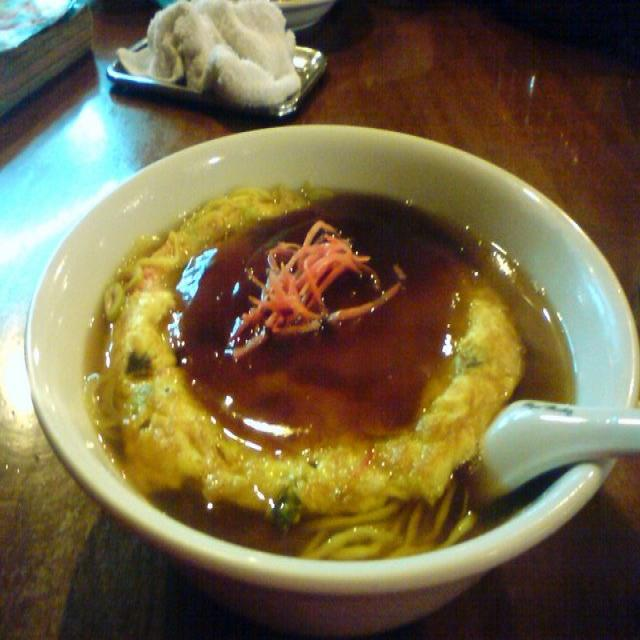面条主食: (48, 112, 553, 539)
